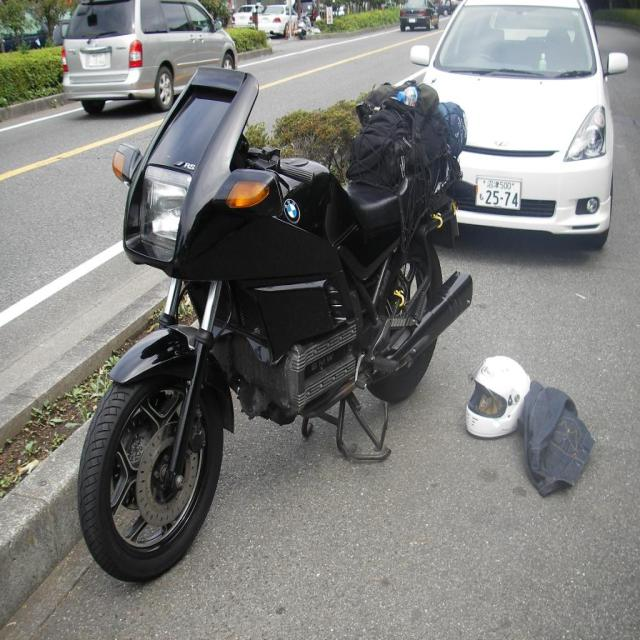car: (254, 3, 302, 37), (397, 0, 440, 30), (228, 5, 261, 30)
